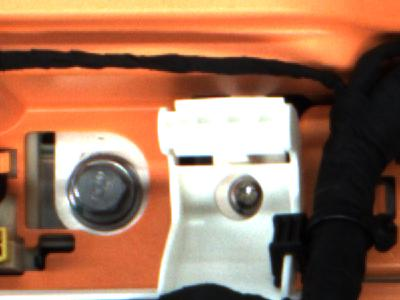nut_b: (64, 151, 148, 232)
